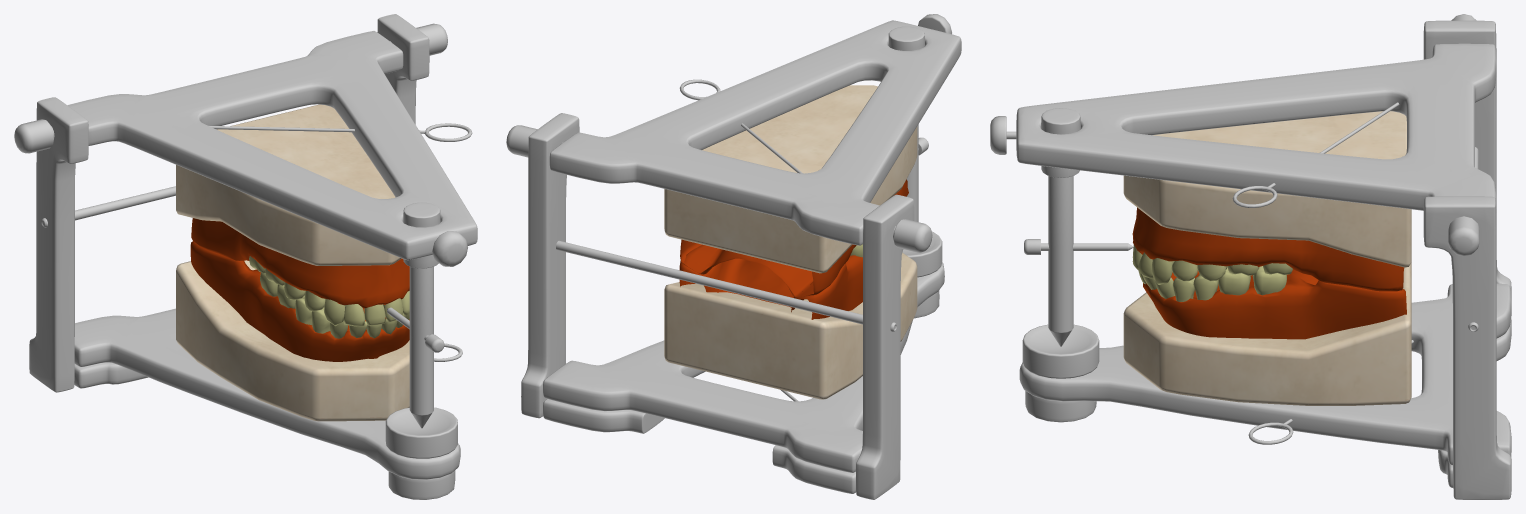
Rendered from NonAdjustableArticulator.fbx.
3 renders of one model, left to right at view 1: azimuth 30°, elevation 25°; view 2: azimuth 150°, elevation 25°; view 3: azimuth 270°, elevation 25°, orthographic. The views are drawn at different scales.
Visible parts, largest first — view 1: Top, Bottom, LowCement, TopCement, Bottom_gums, Top_Gums, Pen01, Concave, Upper_teeth, Lower_teeth, Pin03, Support (+3 smaller); view 2: Bottom, Top, LowCement, TopCement, Bottom_gums, Pin04, Top_Gums, Pin03, Pen01, Concave, Pin01; view 3: Top, Bottom, LowCement, TopCement, Bottom_gums, Top_Gums, Pen01, Concave, Lower_teeth, Upper_teeth, Support, Pin03 (+3 smaller).
Boxes of the visible parts, x1,y1,x2,y2 form: Top: [67, 31, 477, 260]; Bottom: [29, 14, 460, 479]; LowCement: [176, 260, 409, 421]; TopCement: [176, 104, 401, 265]; Bottom_gums: [190, 241, 409, 361]; Top_Gums: [191, 218, 409, 308]; Pen01: [403, 202, 440, 428]; Concave: [385, 407, 457, 458]; Upper_teeth: [249, 256, 409, 326]; Lower_teeth: [260, 272, 409, 338]; Pin03: [14, 23, 447, 153]; Support: [388, 470, 455, 499]; Bottom: [521, 113, 944, 499]; Top: [549, 20, 961, 245]; LowCement: [664, 252, 917, 399]; TopCement: [664, 85, 917, 273]; Bottom_gums: [679, 244, 862, 319]; Pin04: [556, 240, 896, 331]; Top_Gums: [680, 179, 908, 296]; Pin03: [506, 125, 932, 252]; Pen01: [888, 26, 924, 221]; Concave: [902, 231, 942, 277]; Pin01: [679, 79, 802, 173]; Top: [1016, 43, 1496, 212]; Bottom: [1019, 20, 1511, 499]; LowCement: [1123, 262, 1411, 405]; TopCement: [1123, 111, 1411, 267]; Bottom_gums: [1143, 269, 1406, 339]; Top_Gums: [1132, 207, 1404, 291]; Pen01: [1041, 108, 1080, 346]; Concave: [1022, 324, 1099, 378]; Lower_teeth: [1139, 261, 1286, 301]; Upper_teeth: [1132, 244, 1292, 284]; Support: [1025, 391, 1096, 422]; Pin03: [1448, 14, 1479, 256].
Size of the model in its own units: 16.15 by 10.21 by 16.28.
